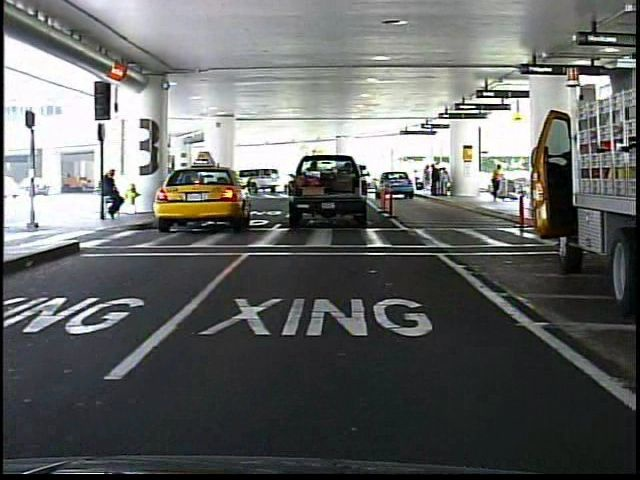person: (101, 163, 128, 224), (489, 159, 509, 206)
